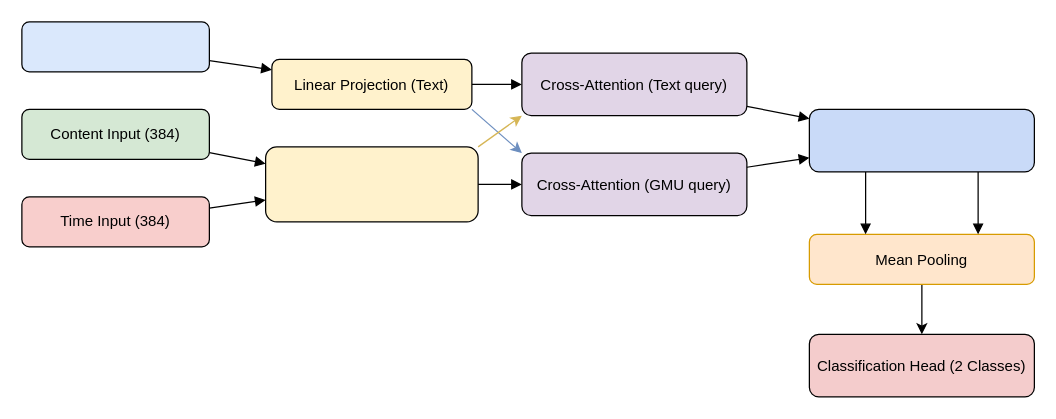
Some shapes in this 1056 by 419 pixel diagram are drawn without their labels. The shapes that lost their labels are listed below. From the top down, each one's centre as x and y in pixels, then its label:
At [115,46]: "Text Input (768)".
At [921,140]: "Feedforward Network (FFN)".
At [371,184]: "Gated Multimodal Unit (GMU)".
